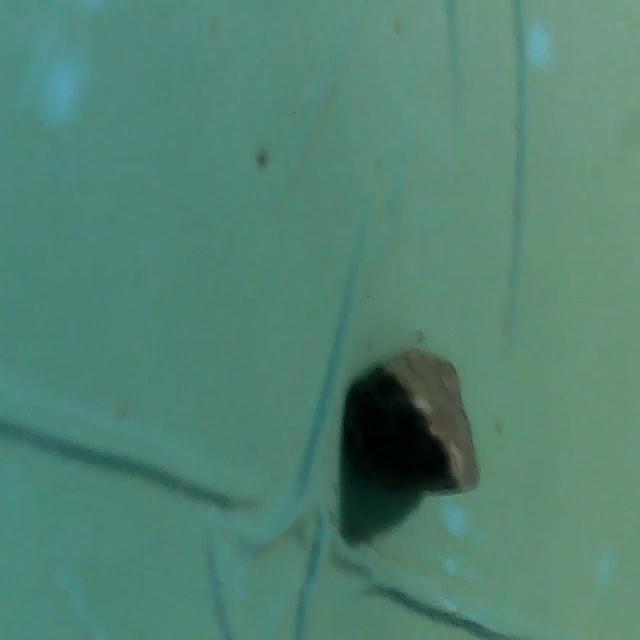rock: (336, 340, 494, 508)
